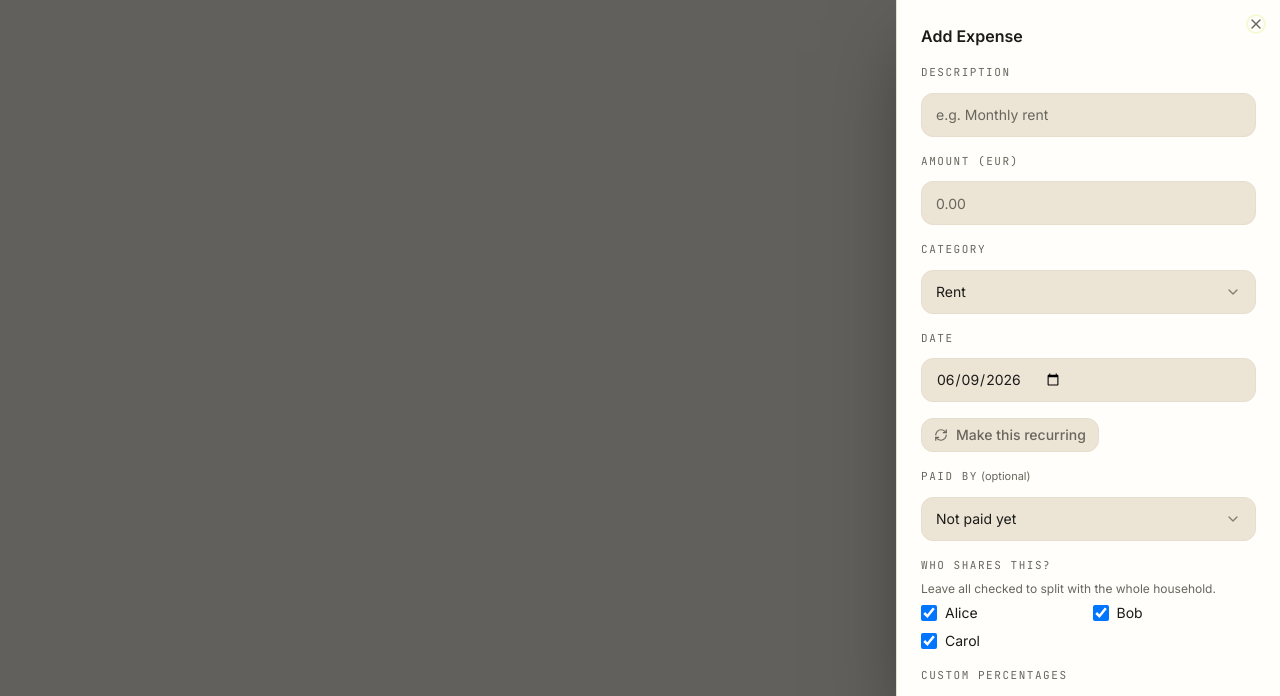
Test: AddExpenseForm — custom split overrides › re-initializes percentages when participants change
This screenshot has width=1280, height=696.
# Initially 3 participants → each gets ~33%. Uncheck Carol → 2 participants → ~50/50.
Click the checkbox labelled "Carol" at (929, 641), box [921,633,937,649]
(page scrolled)
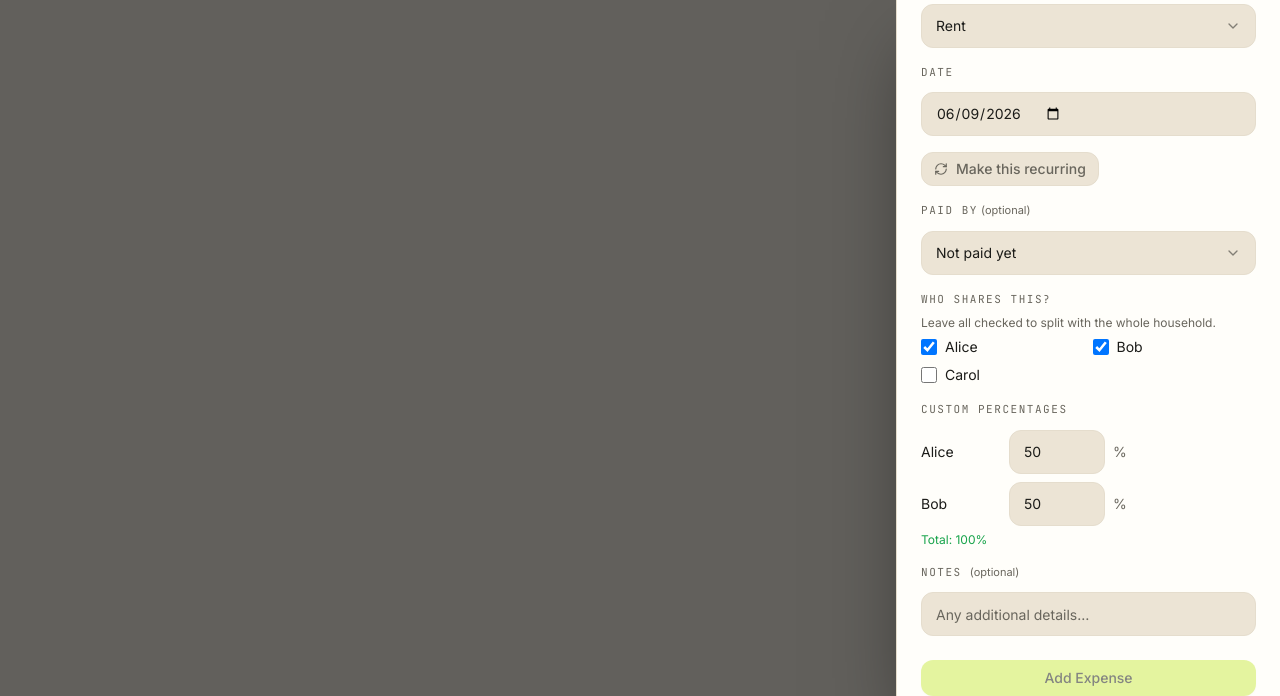
Check: the number field named "Alice %" is shown, box [1009,430,1105,474]
Check: the number field named "Bob %" is shown, box [1009,482,1105,526]
